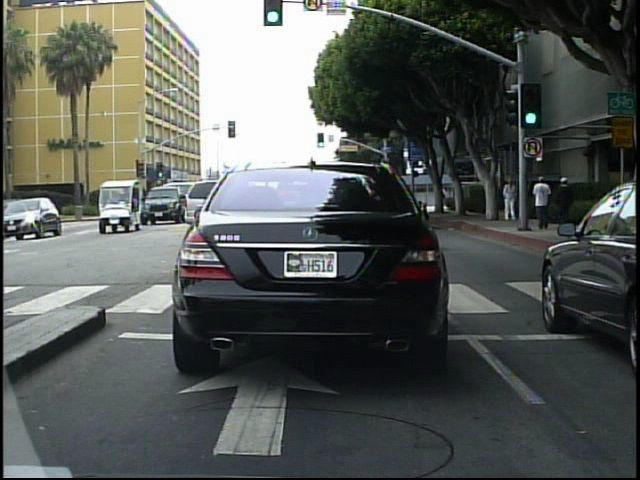person: (556, 171, 581, 238), (532, 174, 553, 231), (502, 177, 520, 225), (437, 182, 451, 215)
